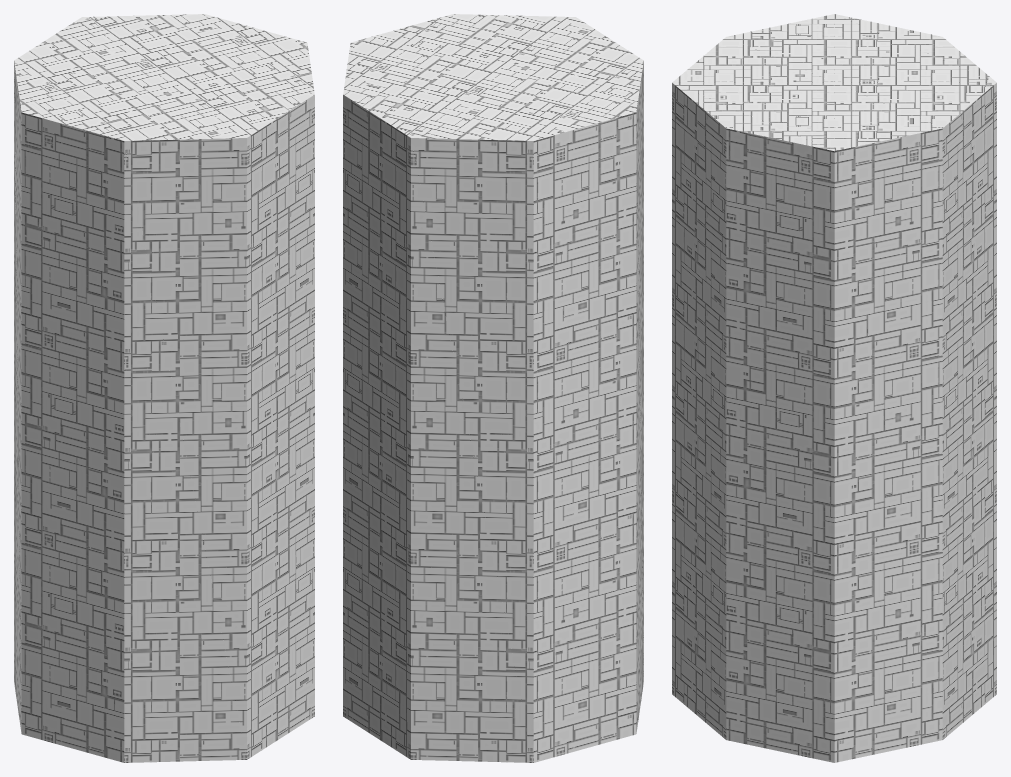
File: PanelColumn1.fbx
3 renders of one model, left to right at view 1: azimuth 30°, elevation 25°; view 2: azimuth 150°, elevation 25°; view 3: azimuth 270°, elevation 25°, orthographic.
Visible parts, largest first — view 1: Pylon; view 2: Pylon; view 3: Pylon.
Boxes of the visible parts, left/top/right/bottom form: Pylon: left=14, top=14, right=314, bottom=762; Pylon: left=343, top=14, right=643, bottom=762; Pylon: left=672, top=14, right=996, bottom=762.
Size of the model in its own units: 300 by 624 by 300.
Materials: 1 (1 with a texture image).
